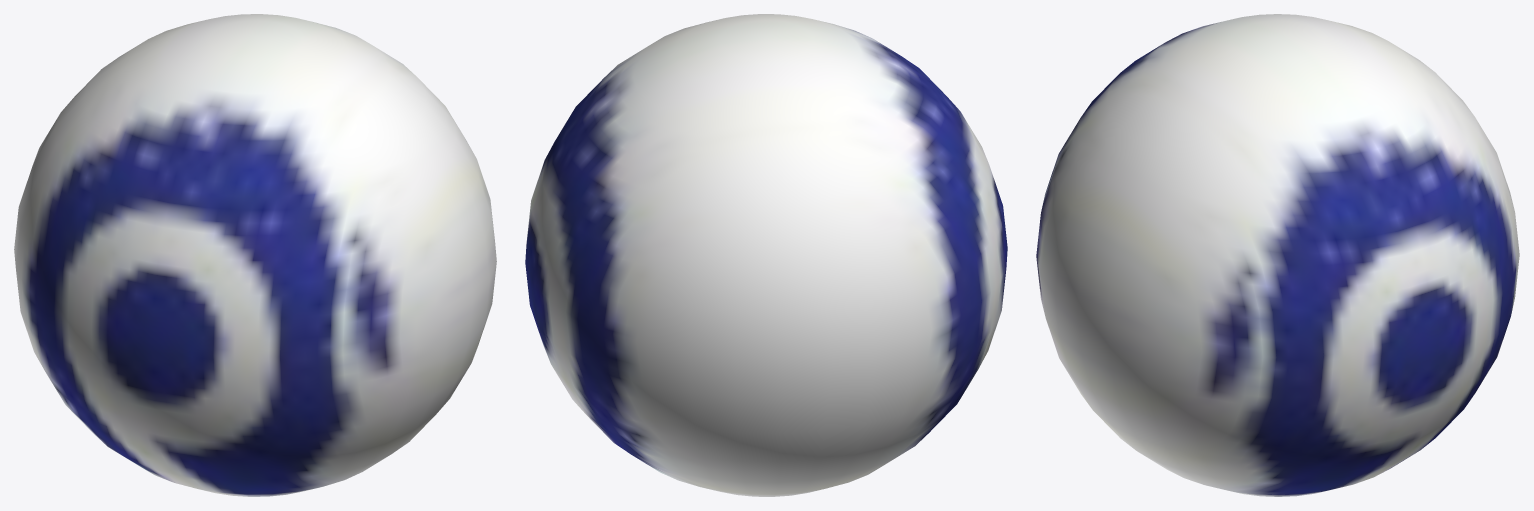
File: Event.glb
The picture shows the model from 3 angles, left to right: view 1: azimuth 30°, elevation 25°; view 2: azimuth 150°, elevation 25°; view 3: azimuth 270°, elevation 25°; orthographic projection.
Visible parts, largest first — view 1: Event; view 2: Event; view 3: Event.
Part boxes in pixels (x1,y1,x2,y2): Event: (14,14,496,496); Event: (525,14,1007,496); Event: (1036,14,1519,496).
Bounding box in the file's own units: 5.65 × 5.65 × 5.65.
1 material, 1 textured.
